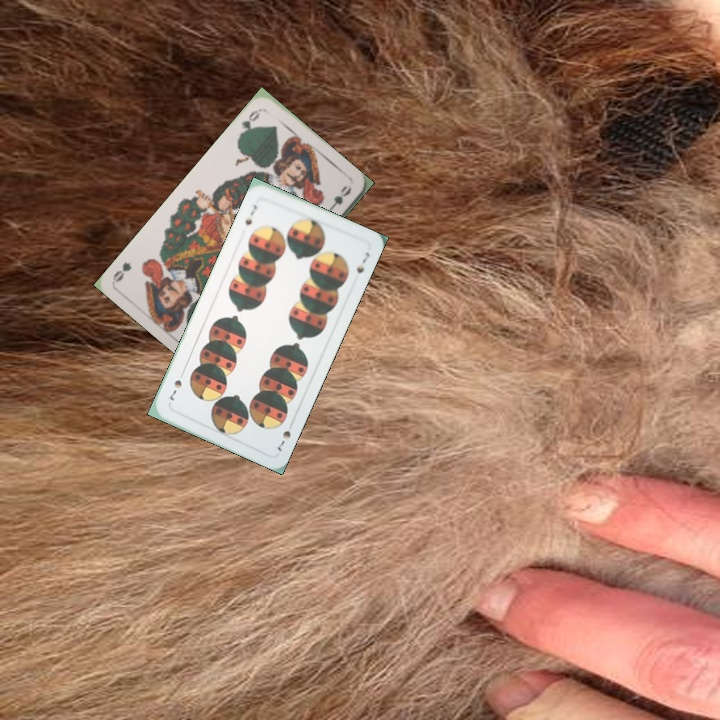GO: (235, 105, 263, 140)
S7: (273, 417, 296, 454), (241, 200, 260, 228)
